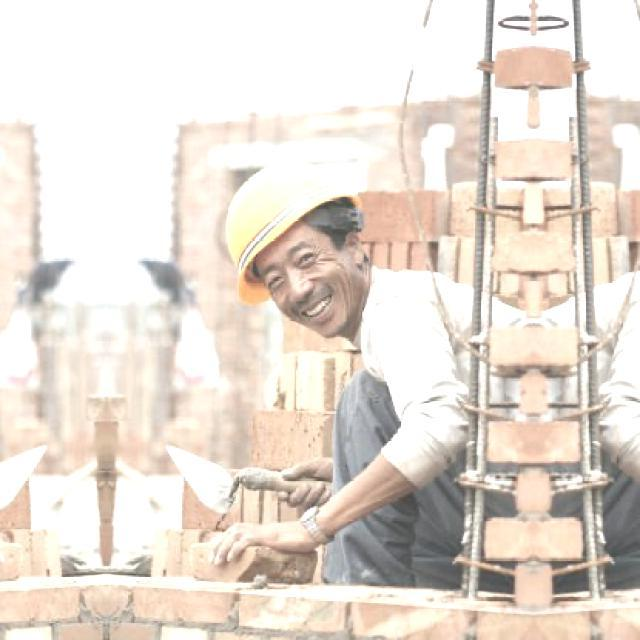safetyhelmet: (220, 152, 359, 321)
